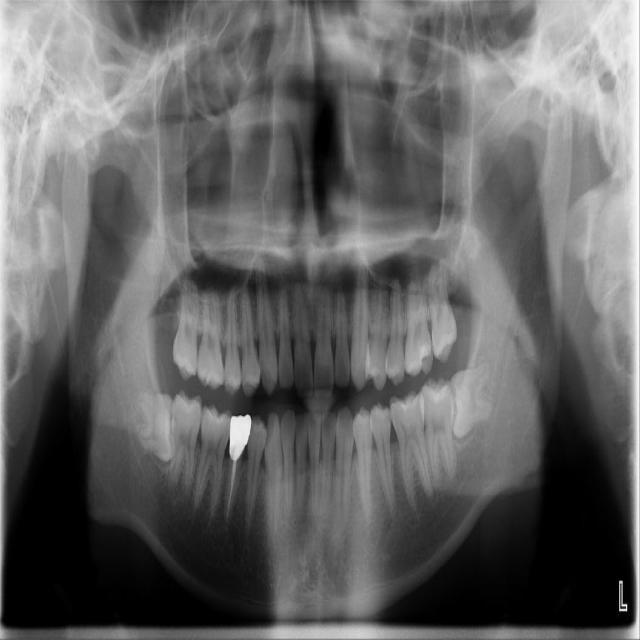52: (402, 328, 436, 380), (228, 413, 252, 460), (422, 419, 429, 432)
73: (223, 454, 242, 525), (611, 594, 615, 602)
BioHorizons Implant: (423, 251, 460, 364)
Biomet 3i Implant: (447, 360, 496, 440)
Blue Sky Bio Implant: (418, 376, 455, 486)
Caries: (171, 262, 202, 381)
Implant: (165, 389, 204, 504)
Keystone Dental Implant: (134, 388, 179, 464)
